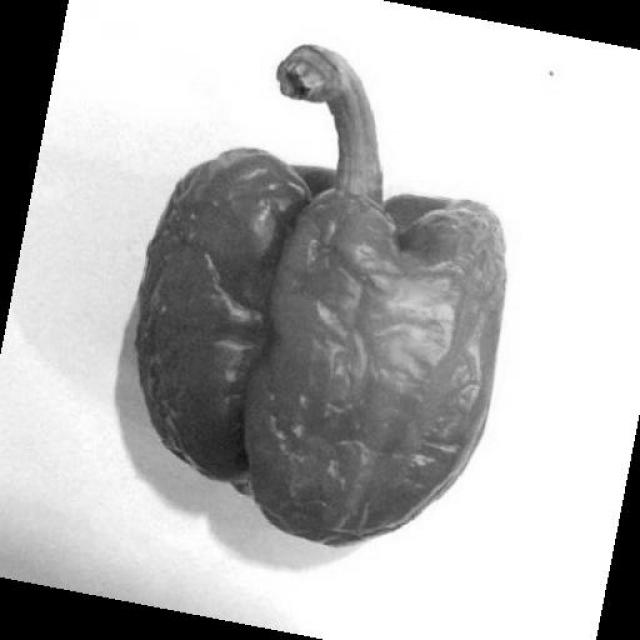Stale_Capsicum: (127, 120, 516, 547)
